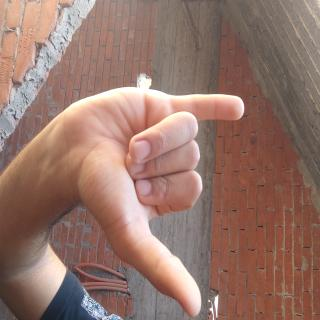YA: (54, 94, 238, 320)
